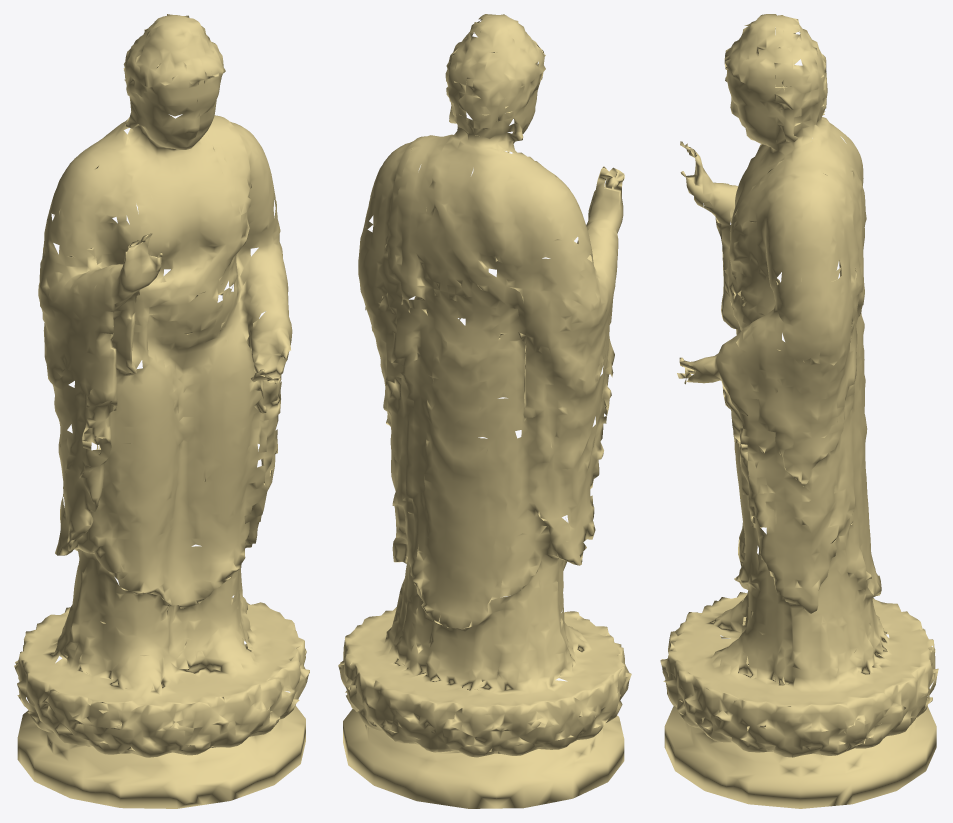
The model's file is standing-buddha.glb.
The picture shows the model from 3 angles, left to right: view 1: azimuth 30°, elevation 25°; view 2: azimuth 150°, elevation 25°; view 3: azimuth 270°, elevation 25°; orthographic projection. The views are drawn at different scales.
Bounding box in the file's own units: 32.47 × 87.6 × 30.31.
